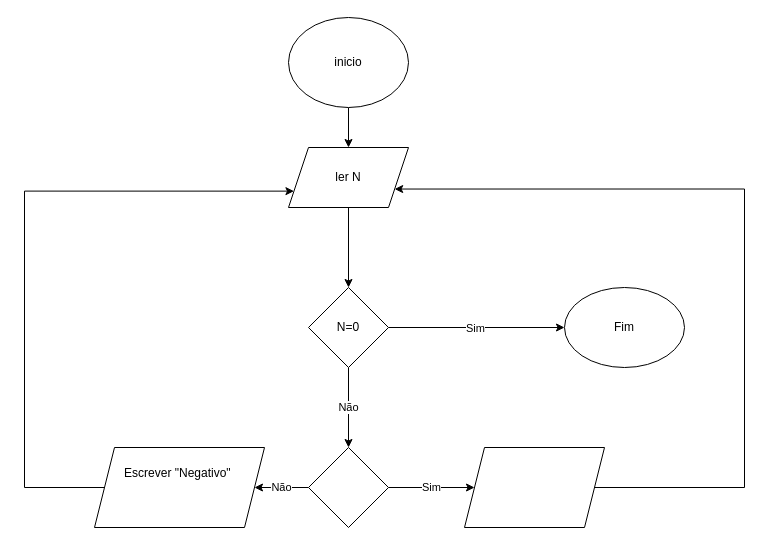
Image size: 770x545. Some labels were removed from this diagram. The shapes that lost their labels are listed below. From the top down, each one's centre as x and y in pixels, then its label:
pixel 348 487: N>0
pixel 534 487: Escrever "positivo"
